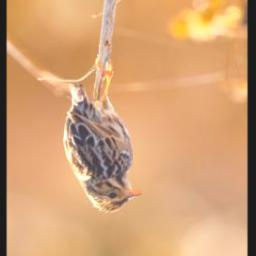Sparrow: (62, 59, 146, 214)
